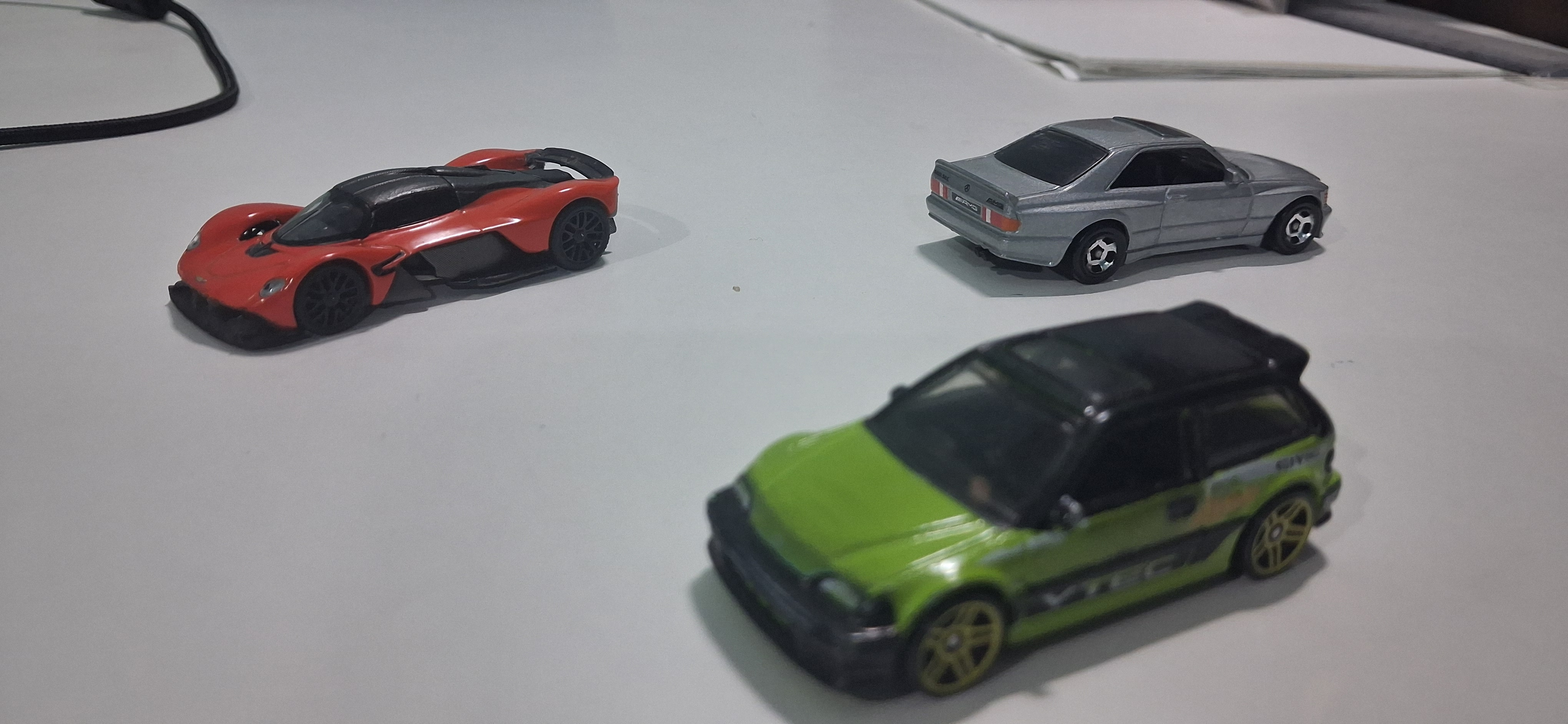Aston_Martin_Valkyrie: (124, 106, 632, 363)
Honda_Civic: (677, 292, 1381, 711)
Mercedes_Benz_560_SEC_AMG: (882, 96, 1365, 296)
